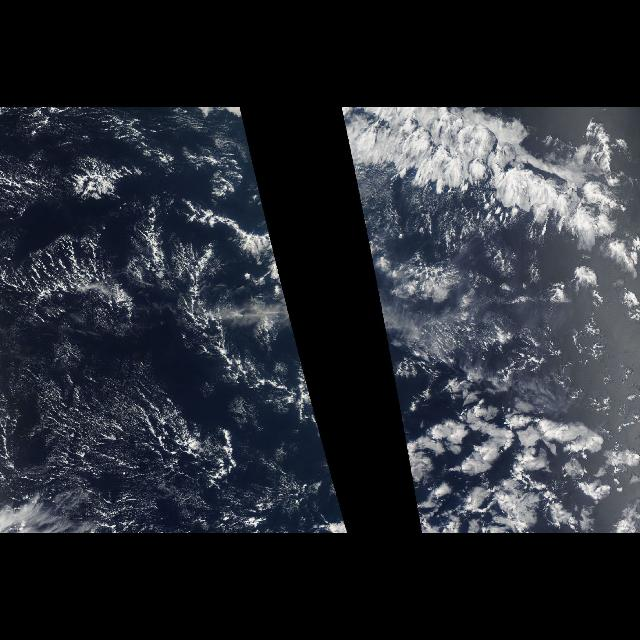Flower: (416, 404, 628, 532)
Gravel: (12, 170, 300, 532)
Sugar: (5, 320, 309, 532), (408, 314, 500, 358)
